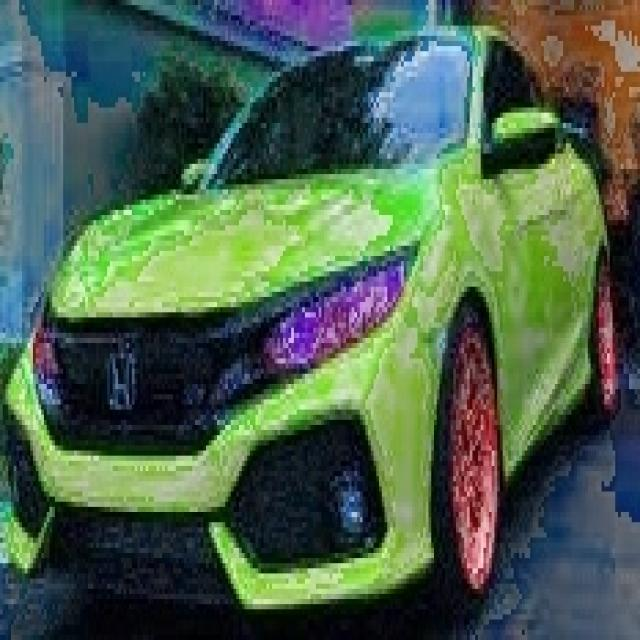green: (4, 20, 620, 640)
